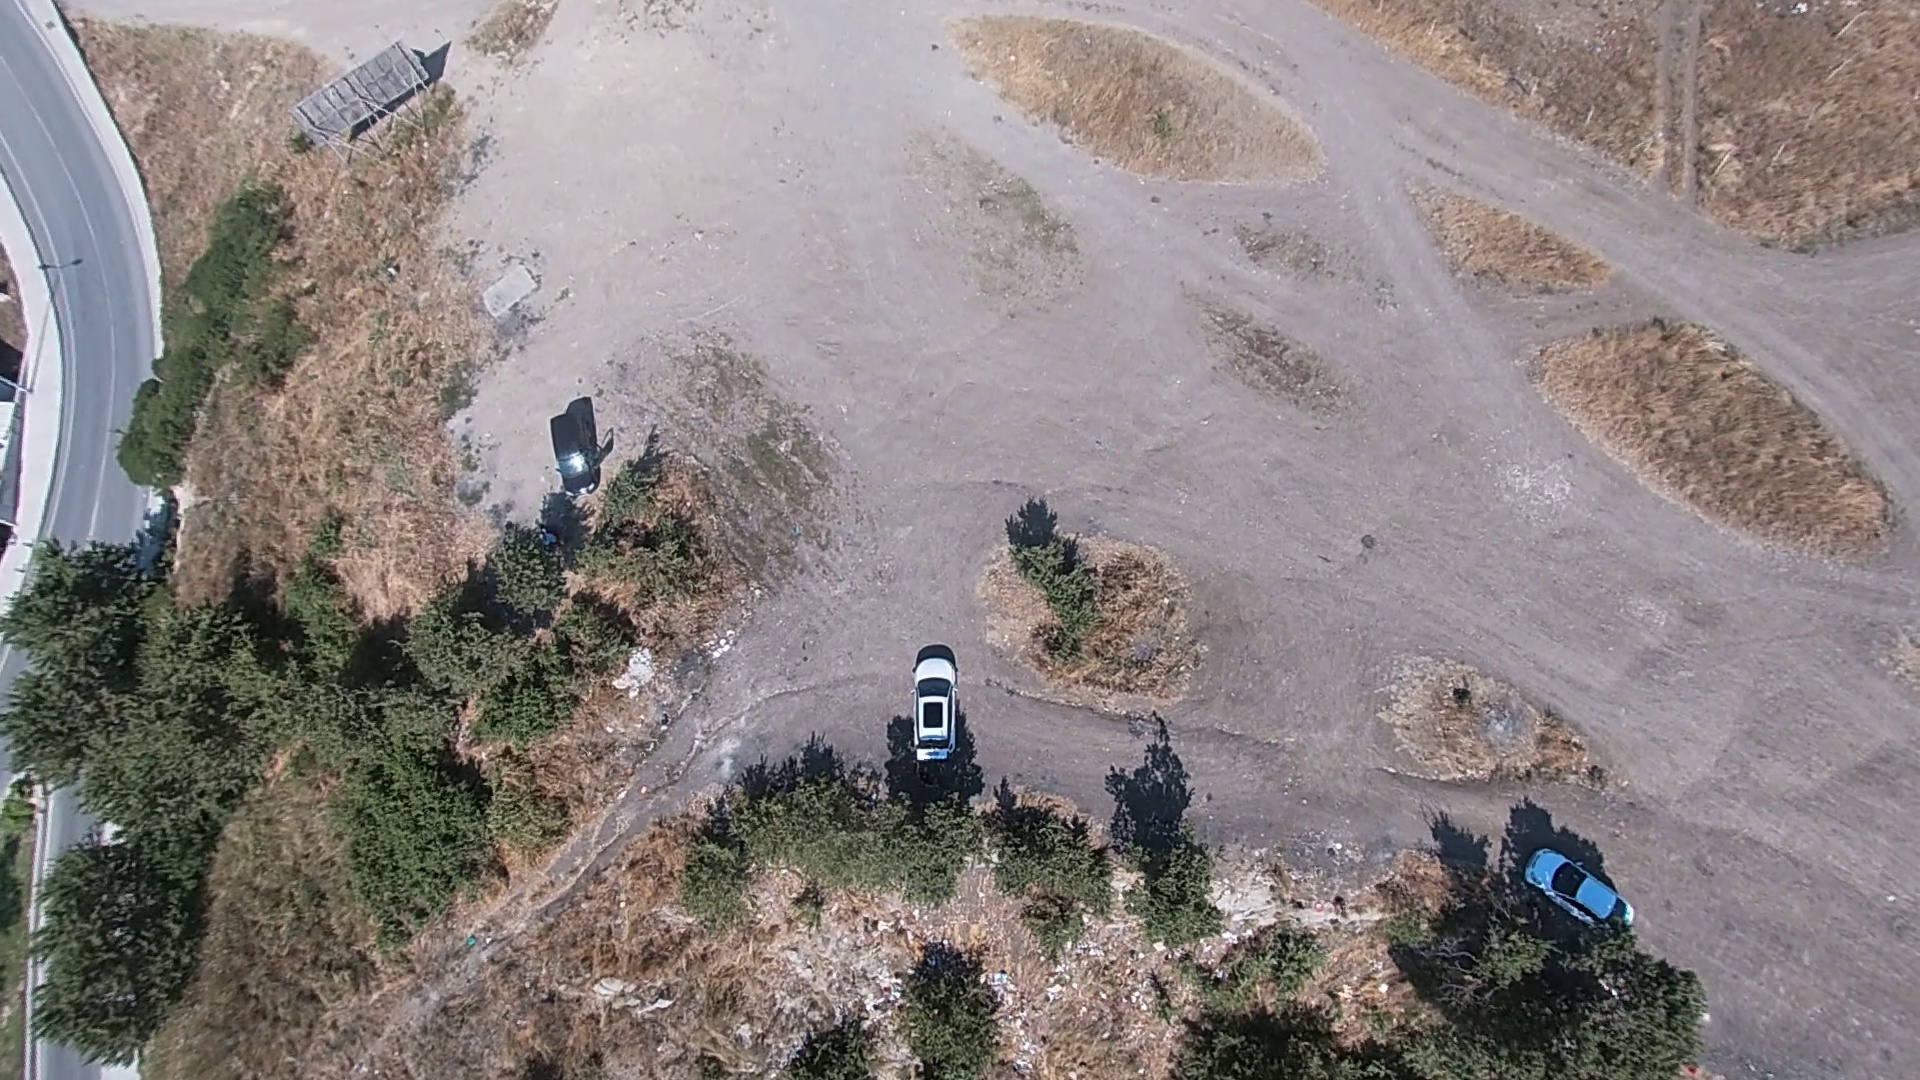araba: (1528, 845, 1634, 928), (542, 405, 593, 506), (909, 657, 956, 764)
